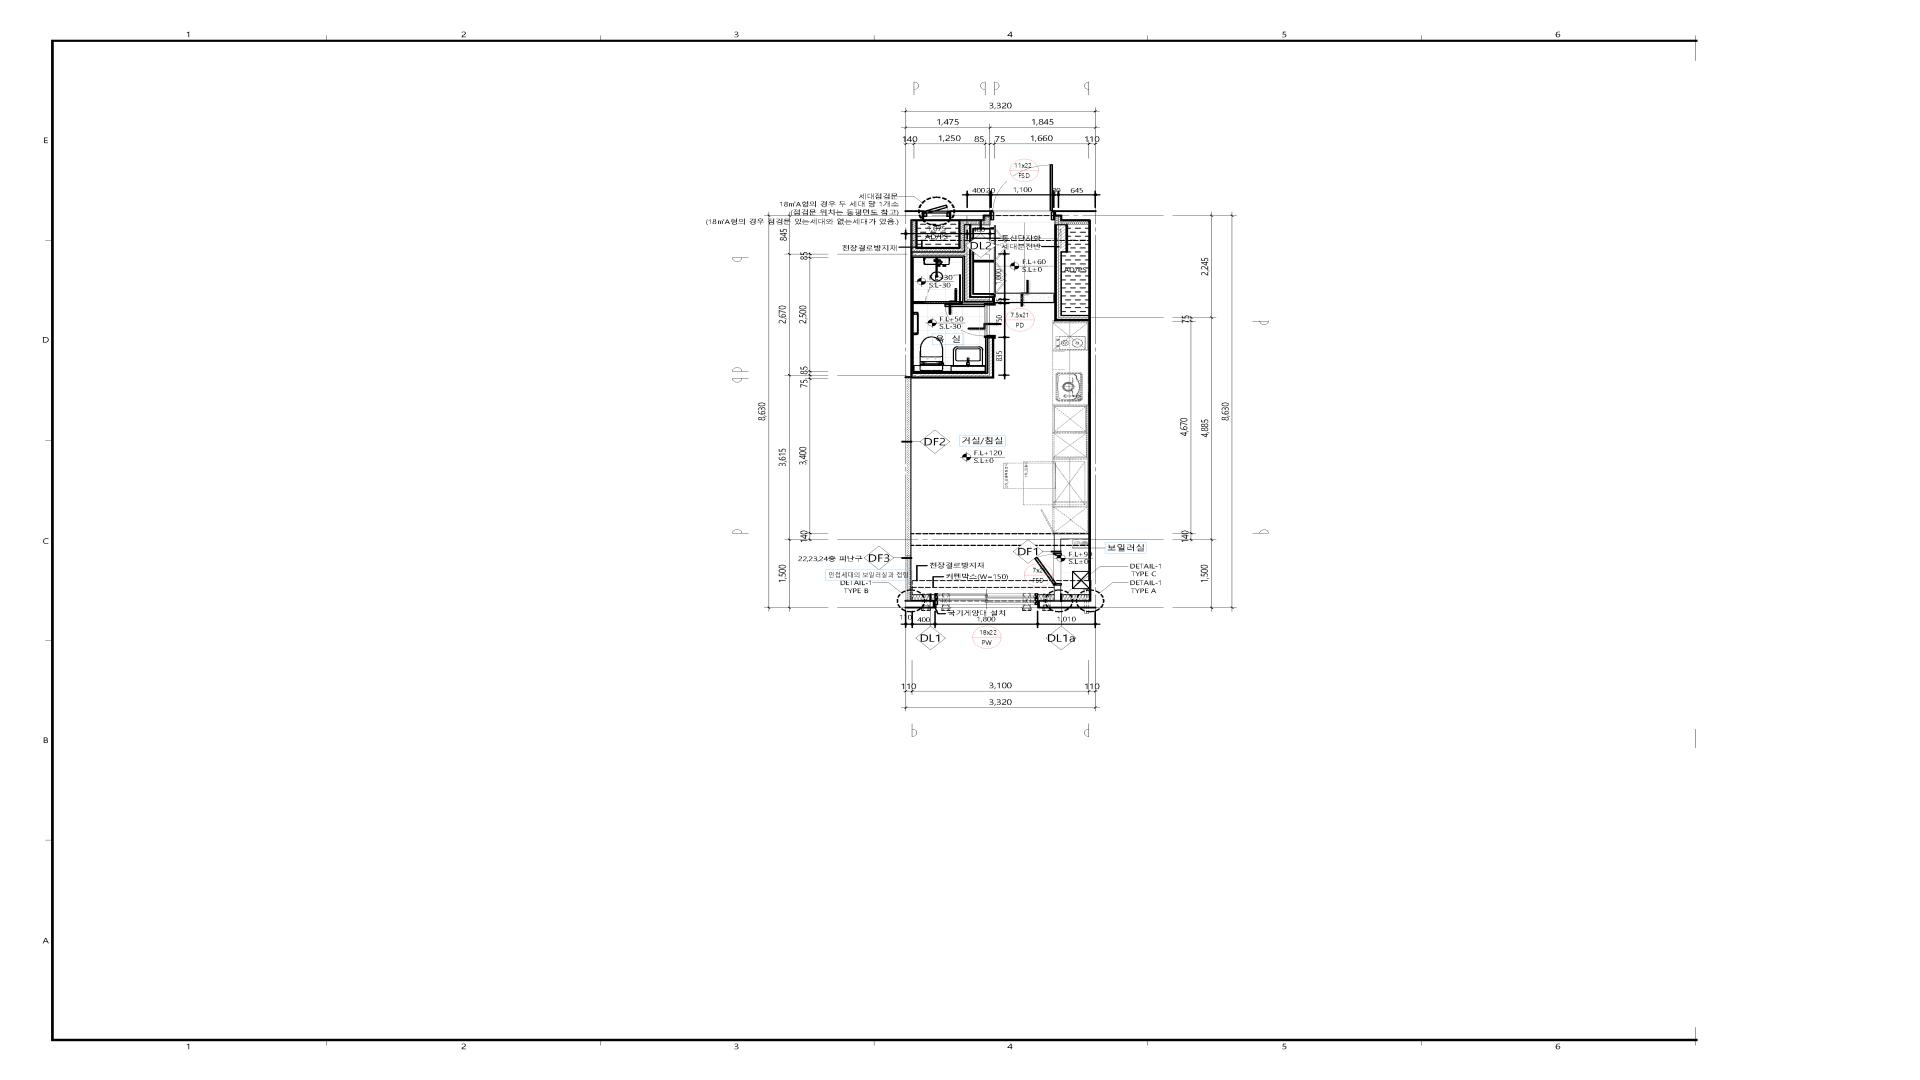door: (990, 164, 1054, 220), (944, 303, 996, 338), (926, 274, 961, 305), (1034, 550, 1062, 585)
wall: (1036, 210, 1097, 608), (913, 224, 994, 302), (913, 338, 994, 378), (905, 210, 924, 378), (1054, 224, 1088, 320), (906, 378, 911, 555), (1055, 534, 1089, 551), (949, 210, 990, 222), (905, 600, 935, 608), (906, 555, 911, 600), (1055, 585, 1062, 600), (913, 301, 926, 305)
window: (935, 593, 1038, 608), (924, 210, 949, 222)
